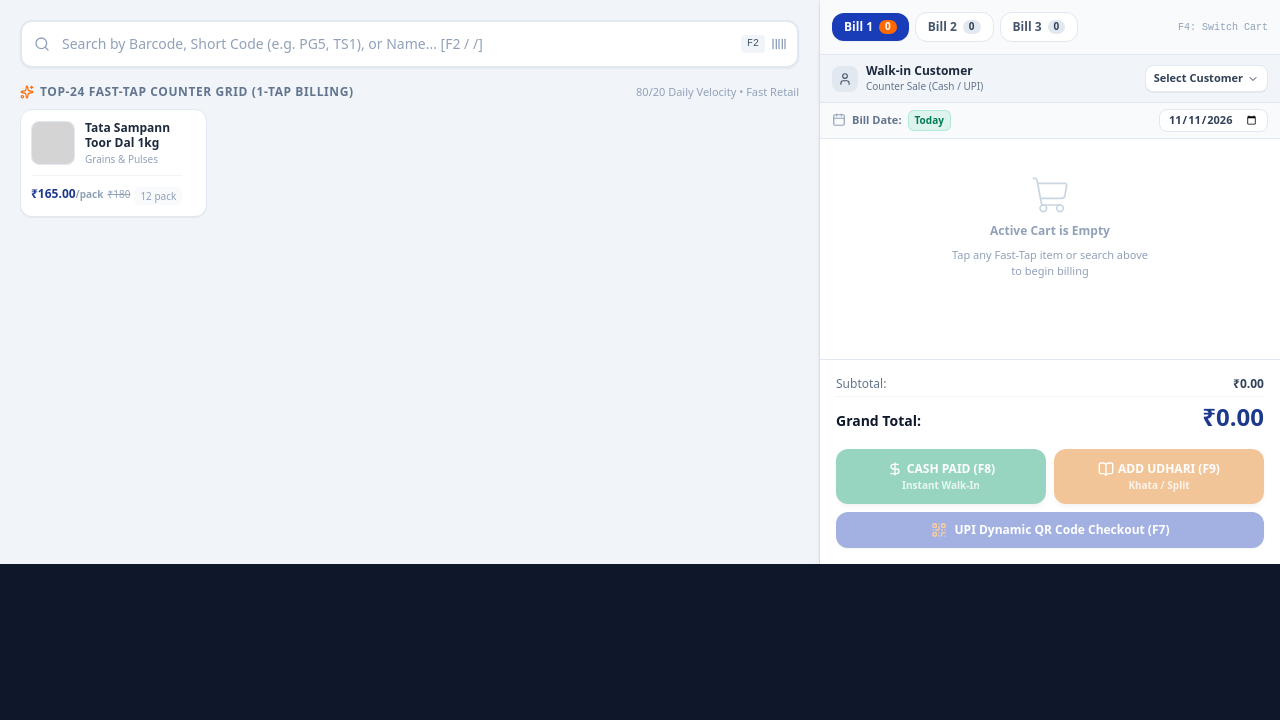
Scenario: Wholesaler Management, Auto-Barcode & Top-24 Product Image Upgrade Suite › 4. Top-24 Fast-Tap Grid in POSView renders product.image_url, name, and selling_price, and does NOT render short_code visibly on card face while still finding i
This screenshot has width=1280, height=720.
Expected: the heading "Tata Sampann Toor Dal 1kg" is shown, [85,118,170,150]
Expected: the button with test id "fast-tap-TSTD99" shows "₹165", [20,108,207,216]
Searching short_code in F2 search input still finds the product immediately
Replace the text in the field with test id "pos-search-input" with "TSTD99" at (410, 44), box [20,20,799,68]
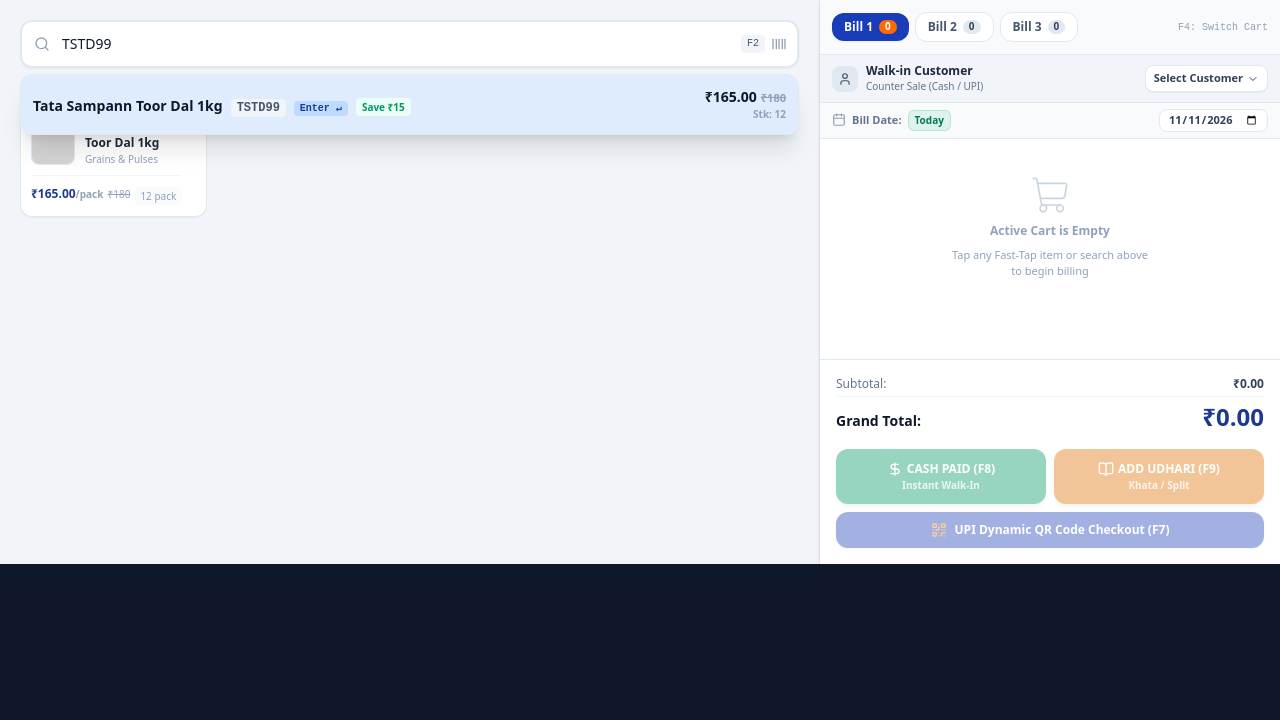
Result: the text "Tata Sampann Toor Dal 1kg" is shown at [33,96,223,114]
